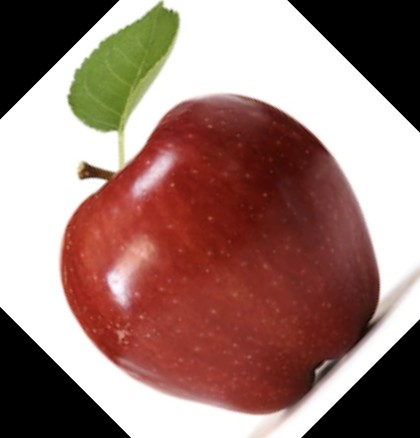fresh_apple: (61, 94, 382, 408)
